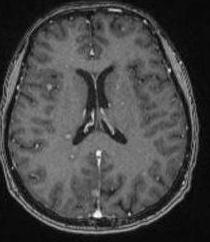Normal_Brain: (1, 1, 200, 242)
